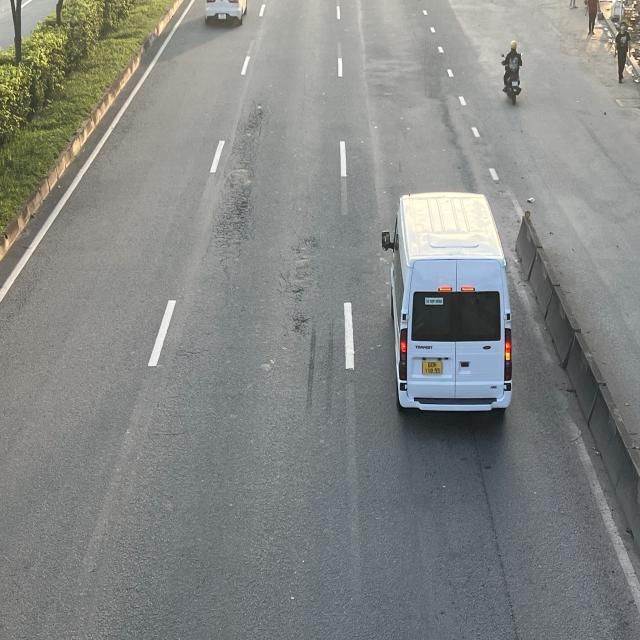van: (381, 192, 514, 420)
